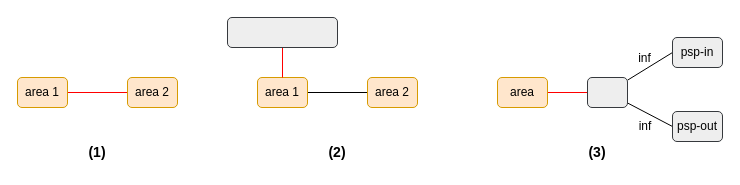
The diagram is 740 pixels wide and 185 high, and some of its shapes have lost their labels. Each missing label, with the box of its shape:
hub: (586, 76, 628, 108)
invest_semibase: (226, 16, 338, 48)
